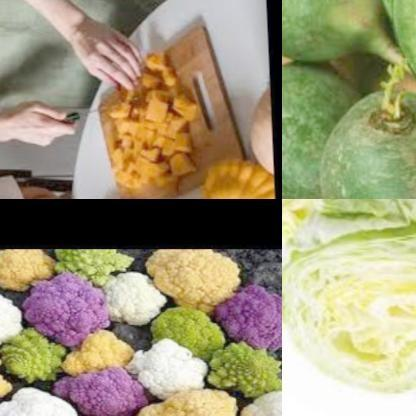cauliflower: (17, 268, 108, 342), (148, 248, 240, 316), (141, 294, 226, 358), (202, 336, 282, 400), (127, 338, 208, 400), (209, 282, 282, 350), (96, 264, 169, 322), (0, 323, 61, 391), (47, 248, 145, 289), (58, 326, 128, 382), (122, 387, 240, 416), (0, 382, 92, 416), (0, 248, 56, 295), (230, 383, 282, 416), (0, 282, 26, 344)
lettuce: (282, 199, 416, 400), (282, 199, 416, 252)
pumpkin: (101, 46, 196, 192), (192, 154, 274, 199), (240, 78, 272, 180)
radish: (282, 62, 367, 199), (315, 88, 416, 199), (282, 0, 405, 73)
